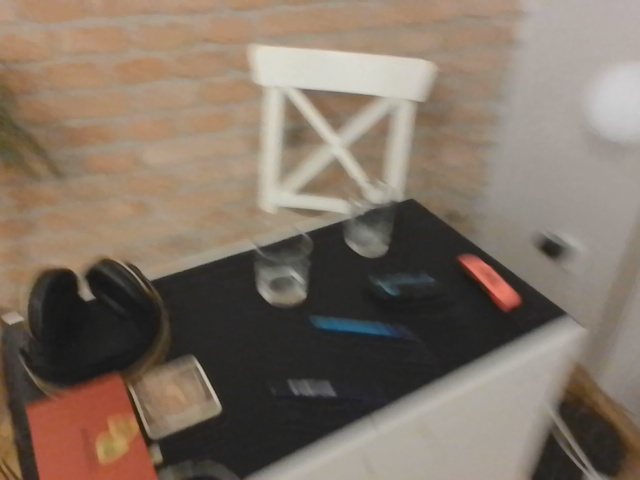glass: (253, 219, 314, 310), (337, 176, 394, 260)
joycon: (453, 245, 528, 314), (367, 272, 448, 304)
pen: (302, 311, 415, 340), (261, 380, 370, 408)
